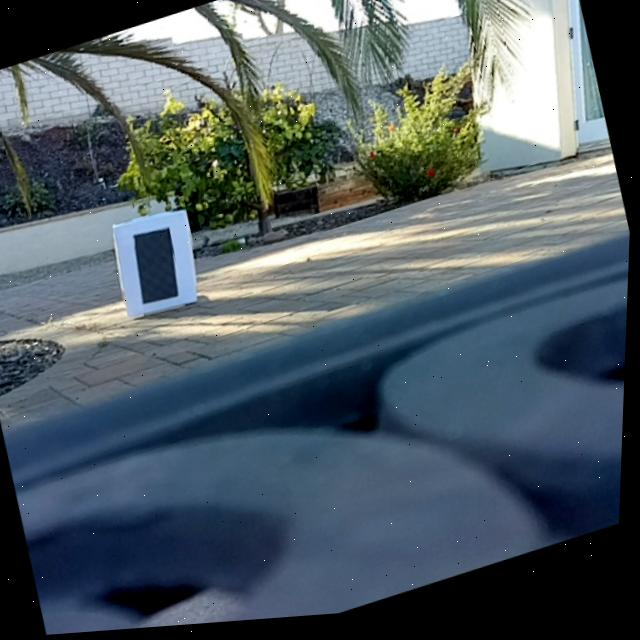led: (128, 223, 187, 311)
